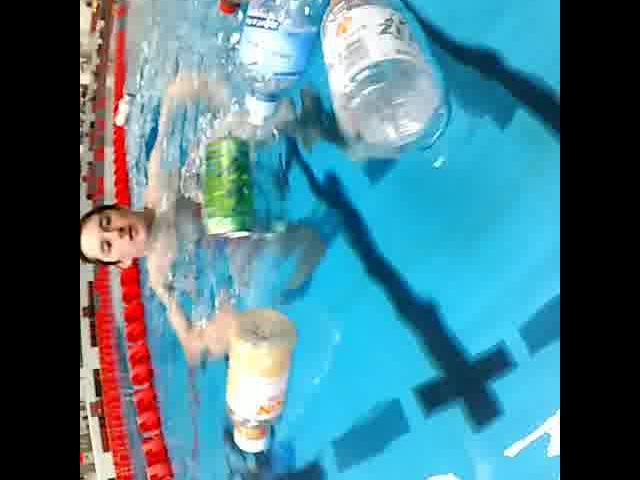Bottle: (317, 0, 461, 160), (234, 0, 368, 136), (223, 296, 303, 459), (212, 0, 290, 23)
Can: (196, 129, 258, 249)
